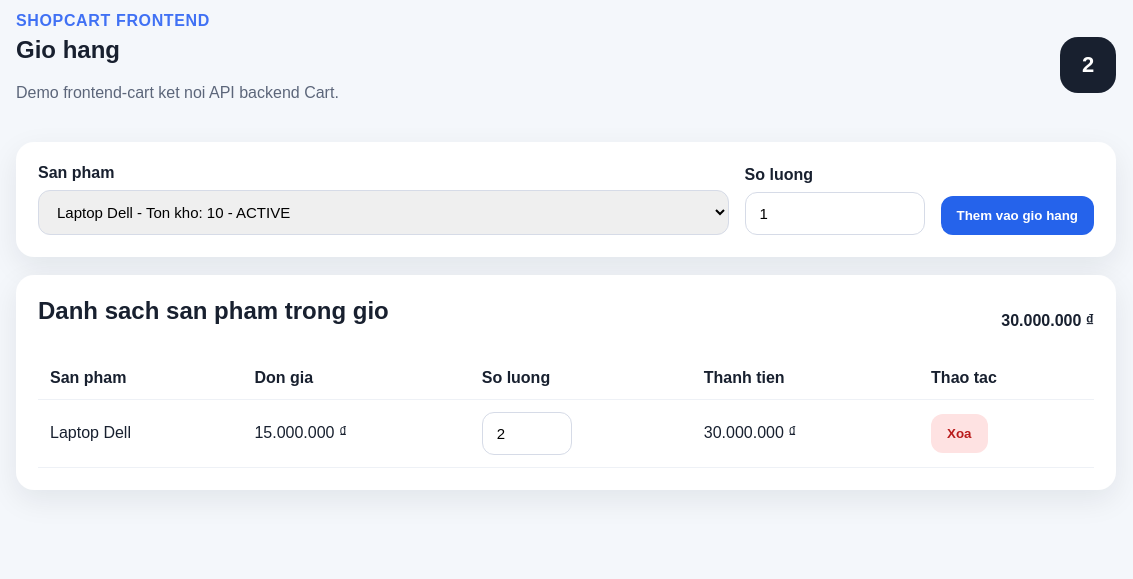
Scenario: Cart Component Extra Coverage Tests › TC_CART_EXTRA_002: Cap nhat so luong san pham trong gio thanh cong
The image size is (1133, 579).
Replace the text in the number field with test id "cart-qty-P001" with "3" at (527, 433), box [482,412,572,455]
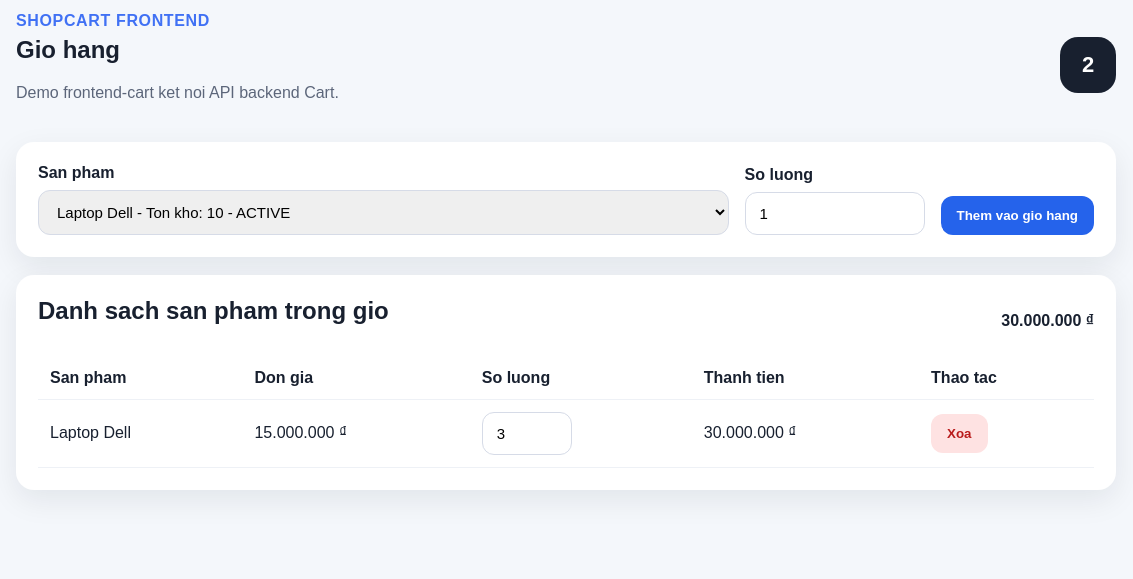
Leave the number field with test id "cart-qty-P001", box [482,412,572,455]
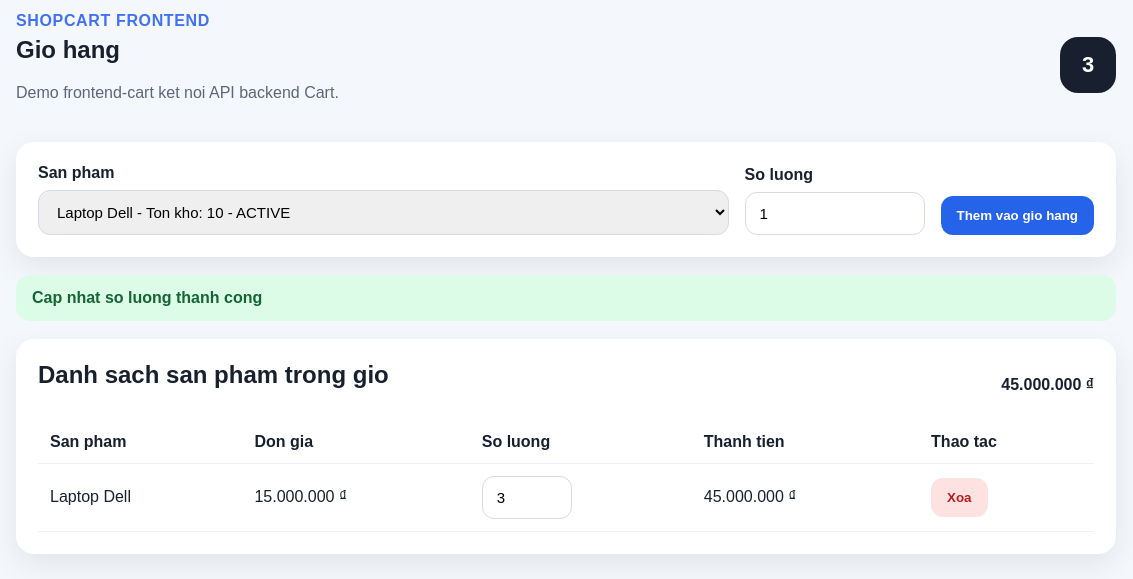
Now the text with test id "success-toast" reads "Cap nhat so luong thanh cong", box [32,289,262,306]
Now the text with test id "cart-badge" reads "3", box [1082,52,1094,77]
